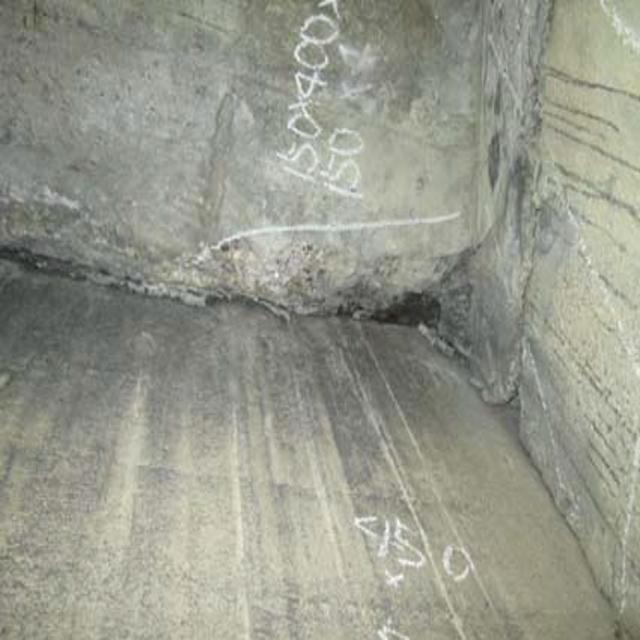spalling: (145, 222, 506, 352)
